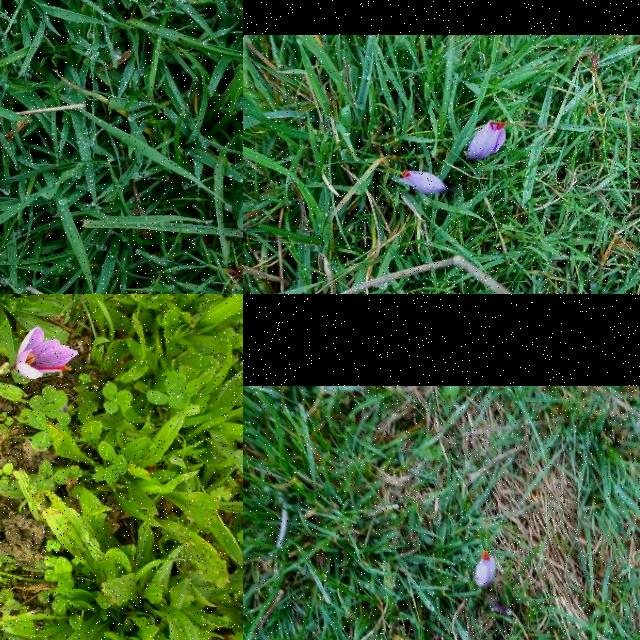flower: (17, 328, 79, 380), (463, 119, 507, 161), (396, 169, 449, 195), (476, 550, 496, 588)
